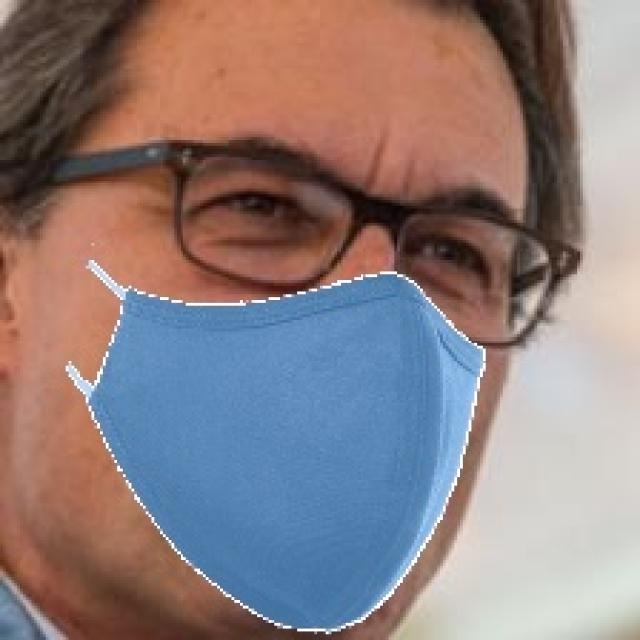mask: (56, 250, 525, 636)
